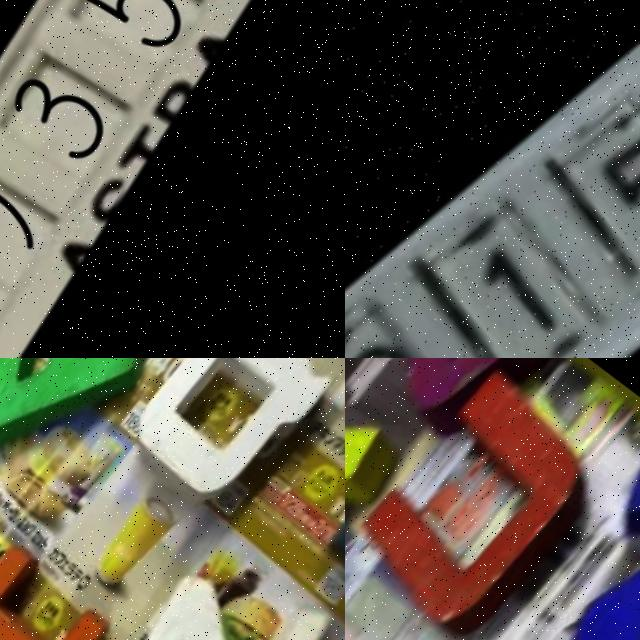0: (345, 315, 466, 358)
1: (438, 220, 590, 358)
3: (0, 43, 132, 198)
5: (55, 0, 211, 92), (572, 112, 640, 274)
9: (0, 145, 65, 301)
F: (0, 358, 153, 492)
I: (0, 541, 119, 640)
Q: (122, 358, 345, 527)
R: (345, 366, 415, 640)
U: (345, 358, 640, 640)
Z: (77, 538, 345, 640)
